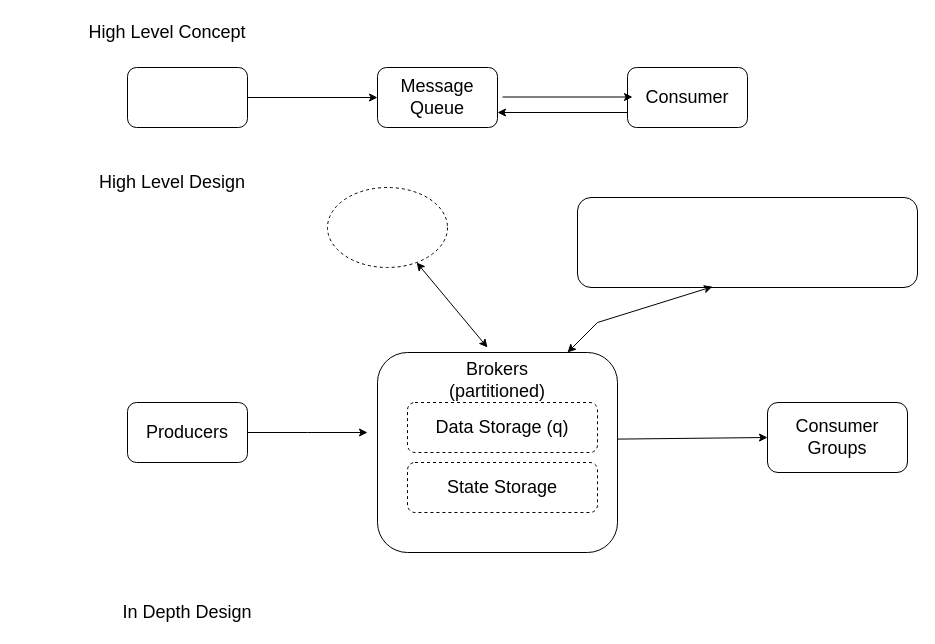
Some shapes in this 935 by 644 pixel diagram are drawn without their labels. The shapes that lost their labels are listed below. From the top down, each one's centre as x and y in pixels, then its label:
(187,97): Producer
(387,227): Metadata storage
(747,242): Coordination Service (Zookeeper, etcd)
